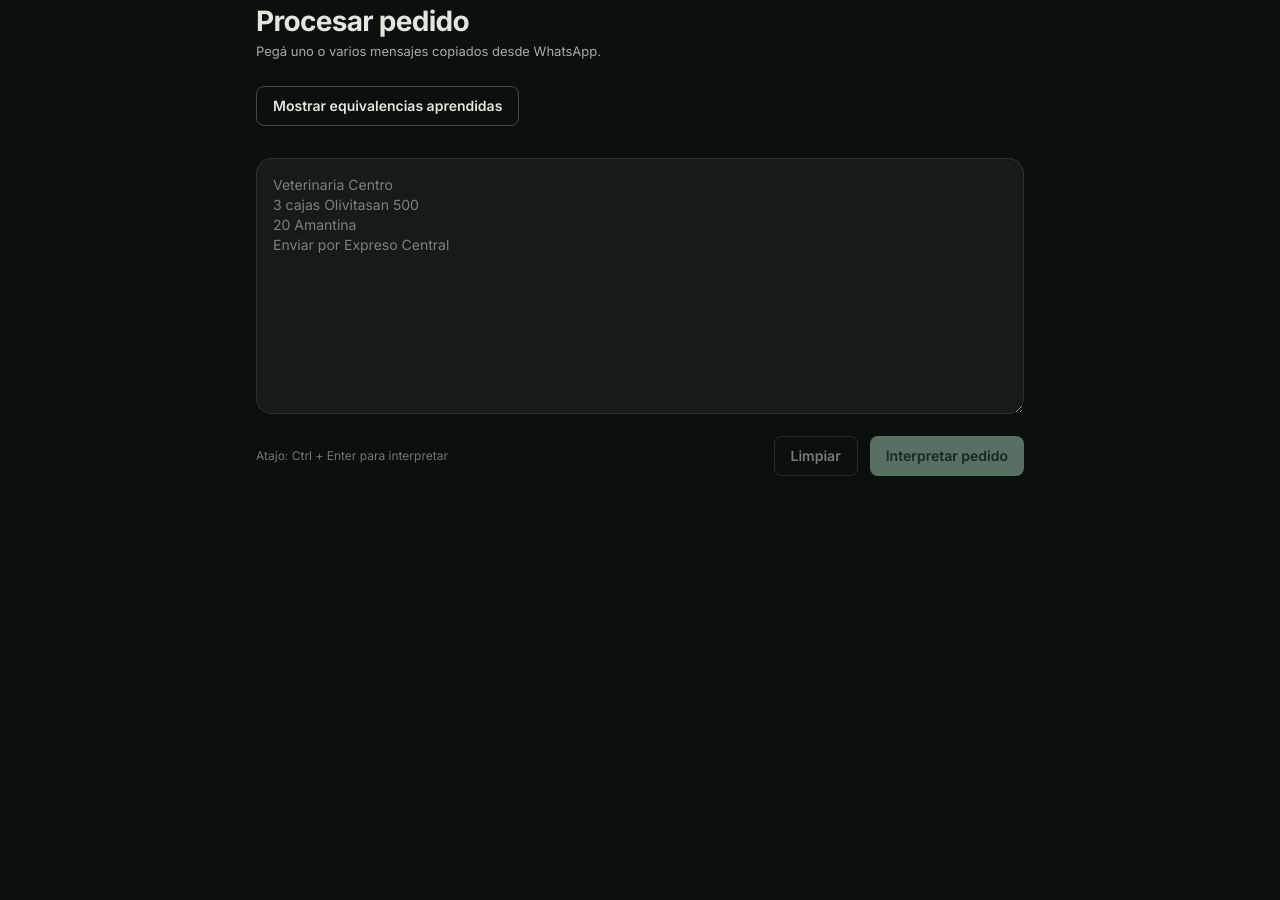
Test: AutomationPage › cancelar eliminación cierra el modal
Click the button "Mostrar equivalencias aprendidas". click: (388, 106)
box: [256,86,519,126]
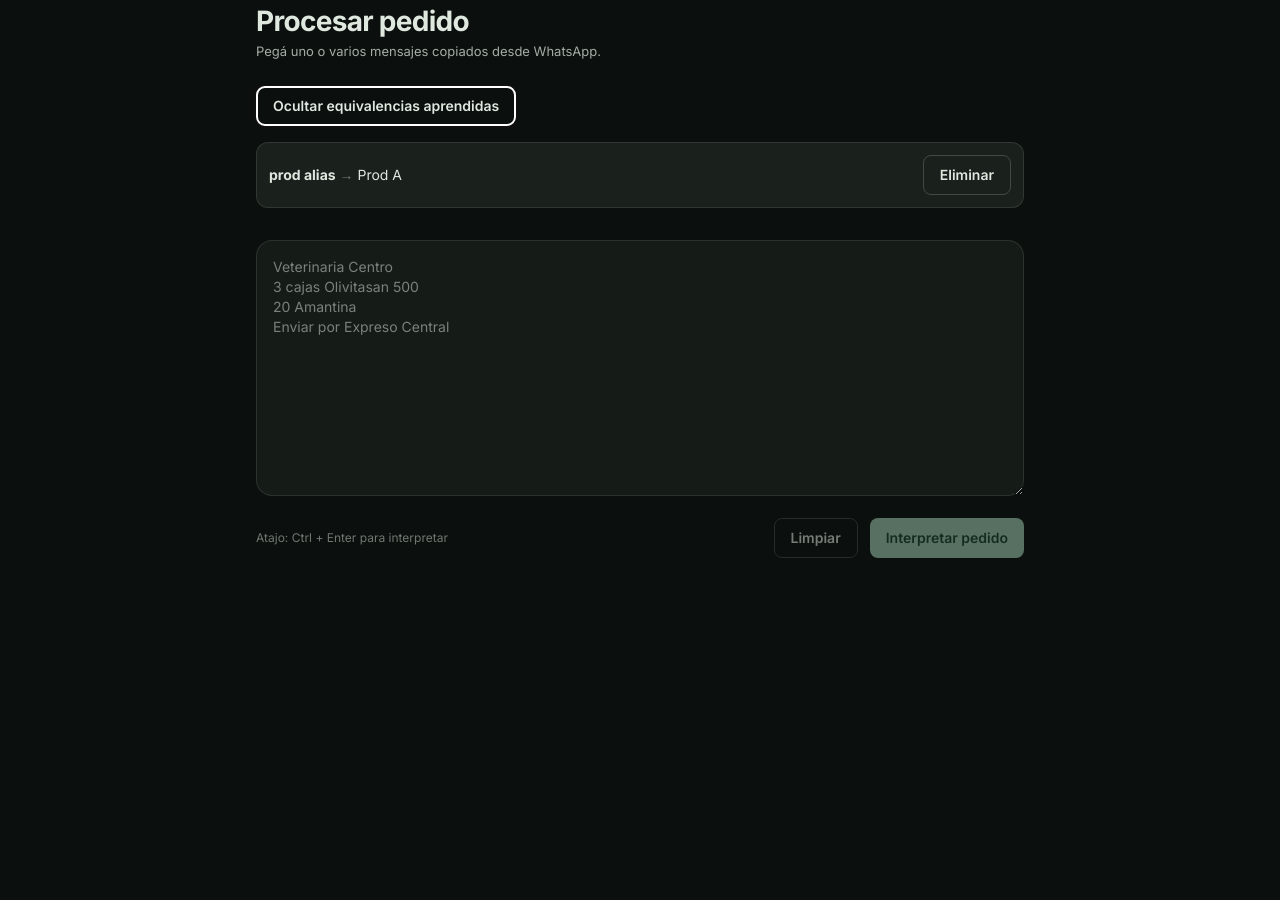
Click the button "Eliminar". click: (967, 174)
box: [923,154,1011,194]
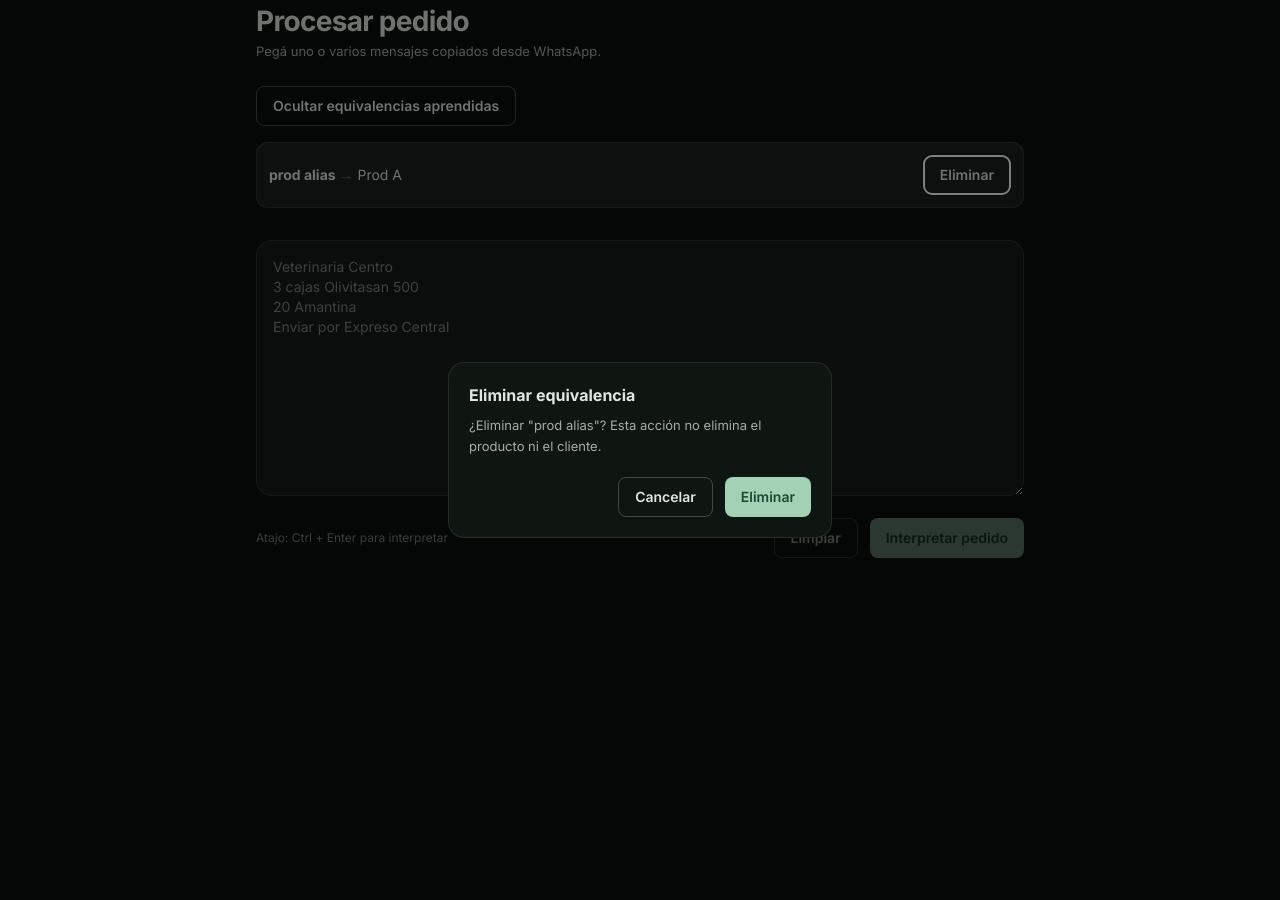
Click the button "Cancelar". click: (665, 497)
box: [618,477,713,517]
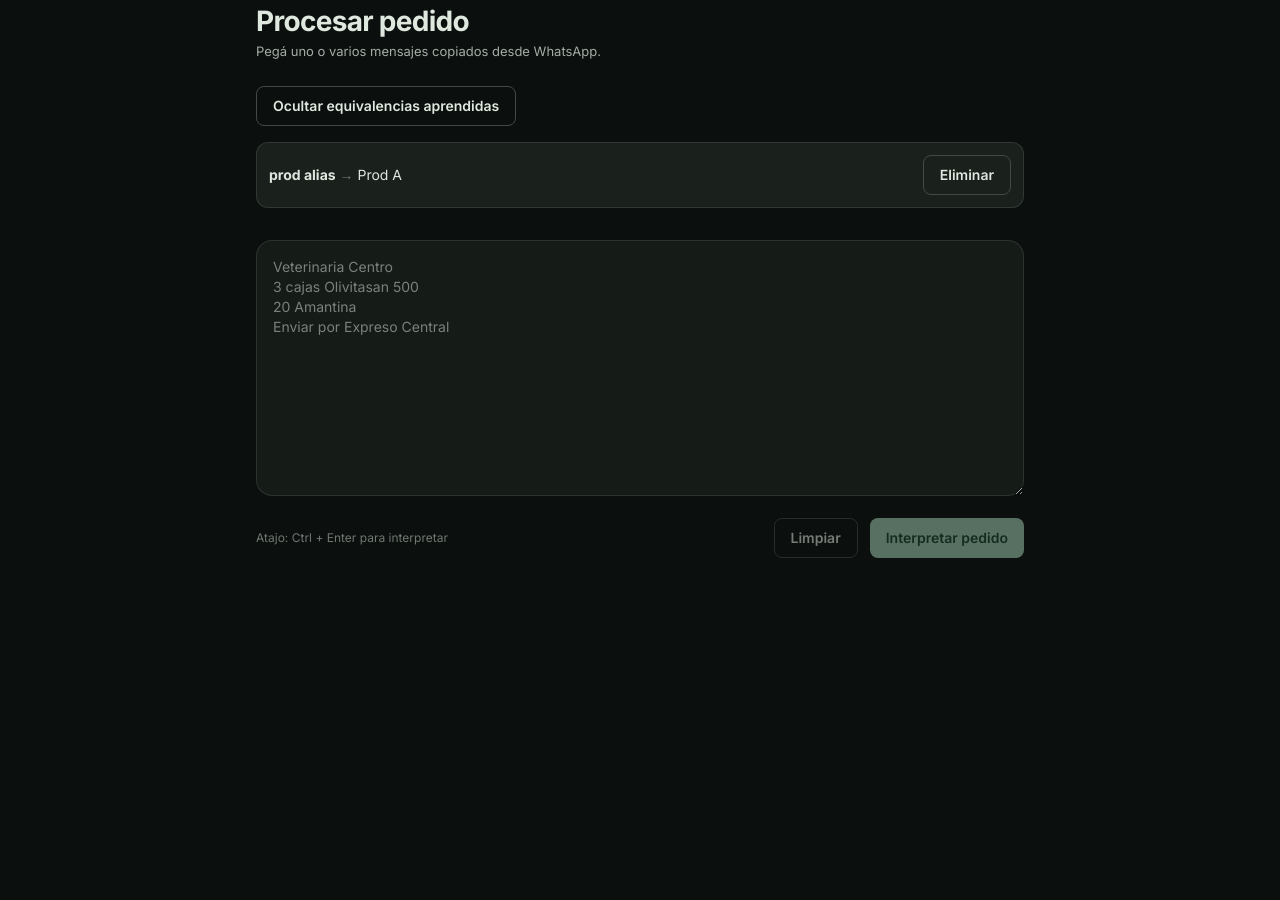
Check: the element with test id "confirm-dialog" is gone
